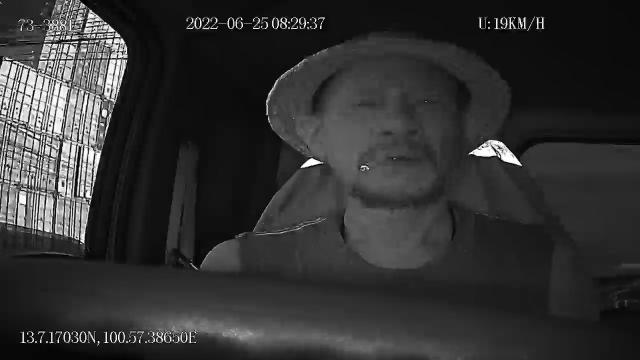Cigarette: (358, 154, 389, 172)
